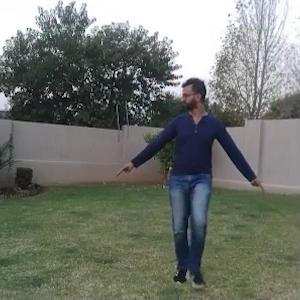land: (119, 80, 270, 279)
